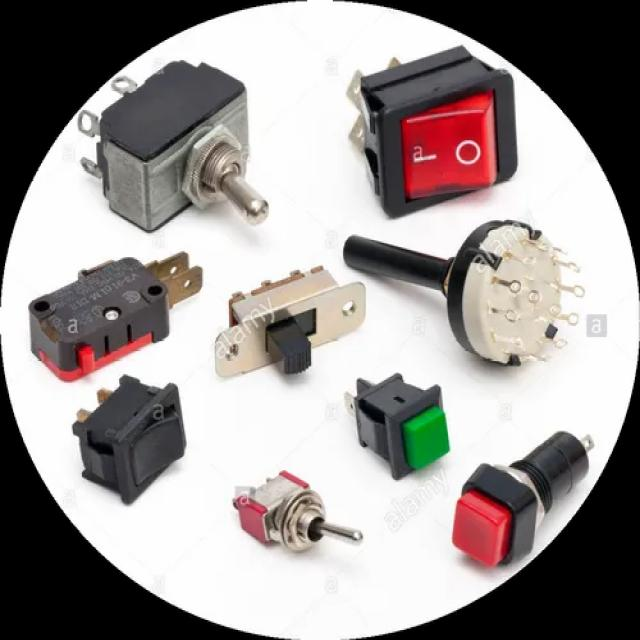switch: (341, 216, 578, 368), (80, 58, 272, 236), (342, 45, 521, 222), (32, 251, 204, 382), (454, 430, 593, 568), (210, 267, 366, 373), (72, 375, 185, 504), (228, 467, 363, 562), (347, 372, 447, 479)
